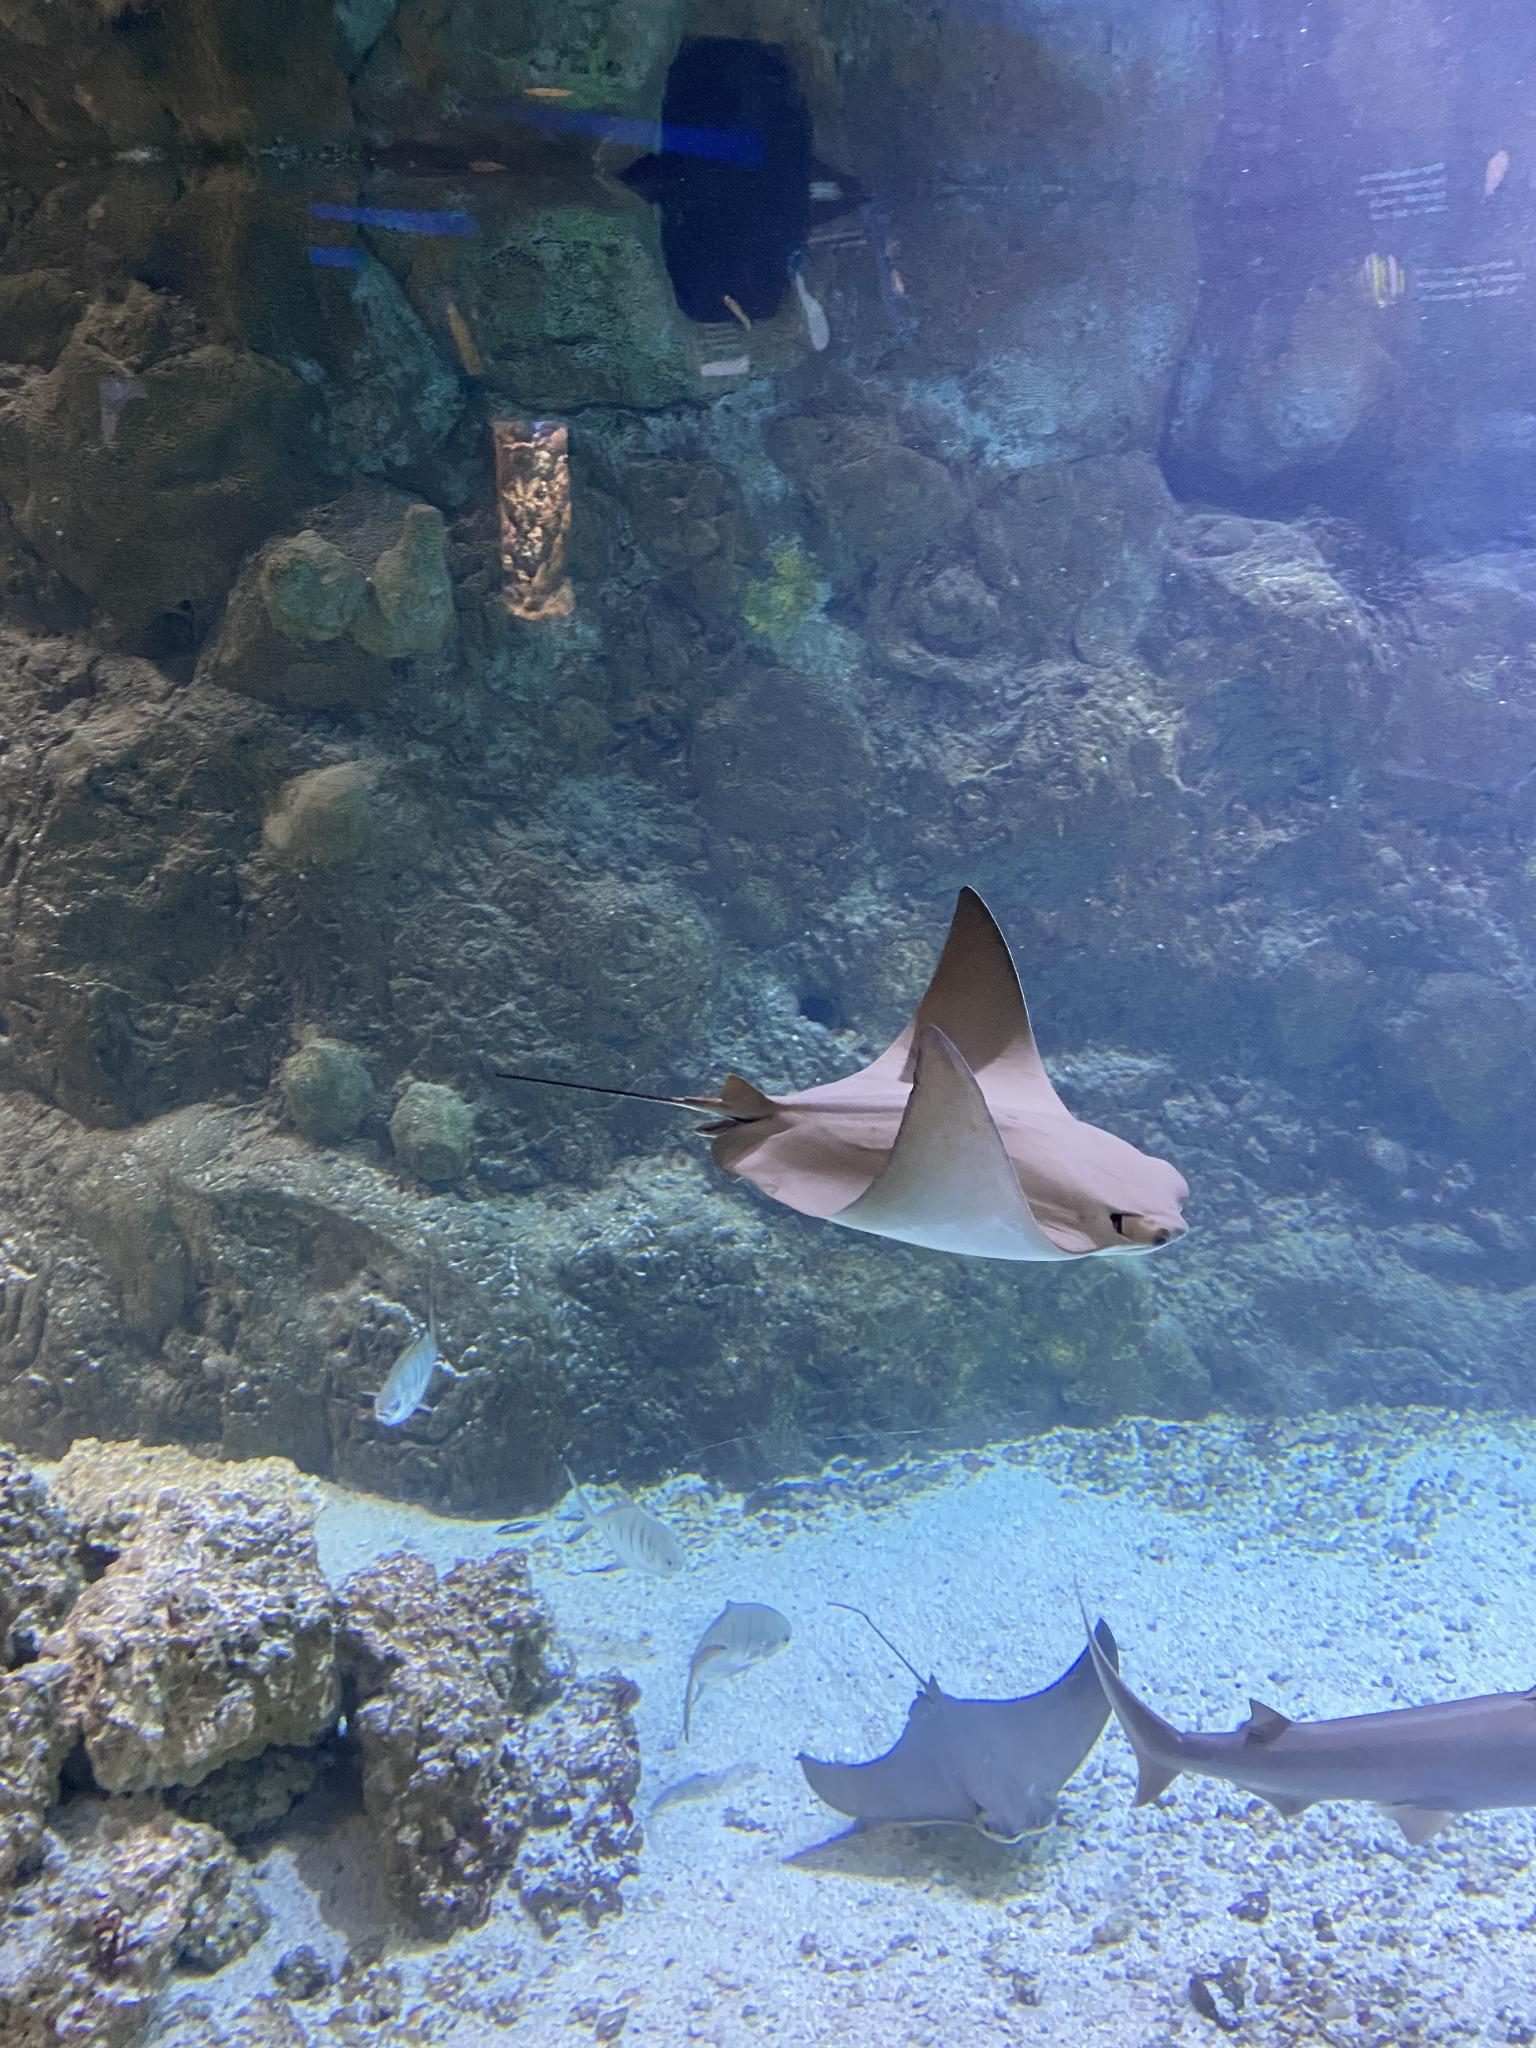fish: (686, 1601, 792, 1742), (563, 1469, 689, 1580), (373, 1326, 444, 1424)
shark: (1071, 1572, 1534, 1850)
stingray: (713, 884, 1192, 1263), (799, 1617, 1120, 1846)
